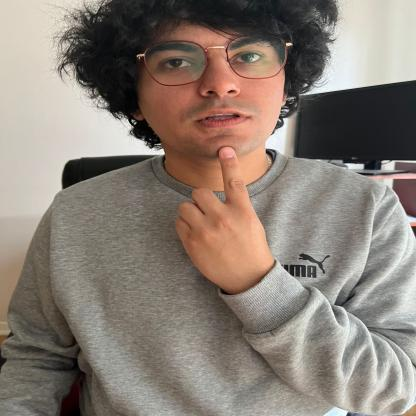T: (173, 142, 276, 288)
